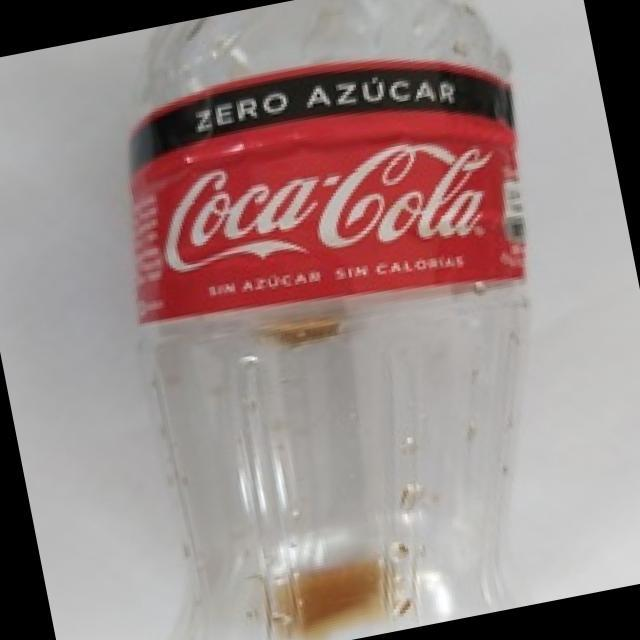good: (105, 0, 614, 640)
